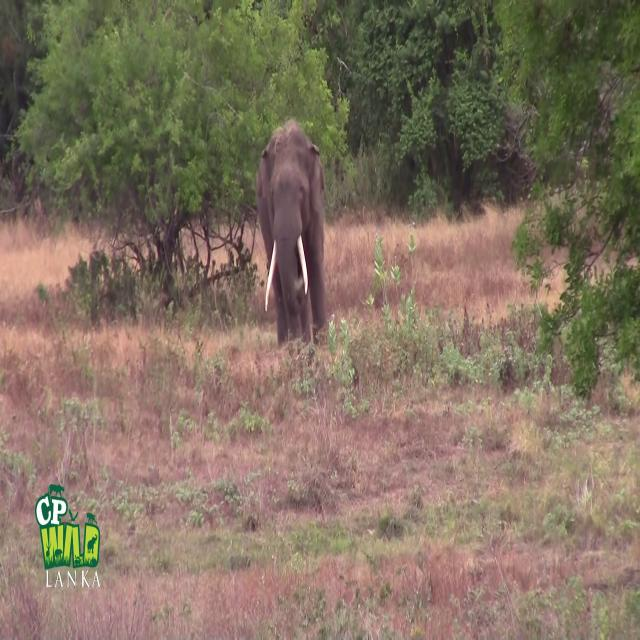Elephant: (255, 118, 327, 347)
